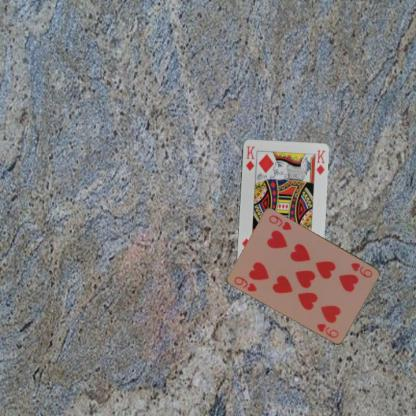9h: (348, 259, 374, 279), (232, 274, 258, 293)
Kd: (243, 143, 256, 172)
